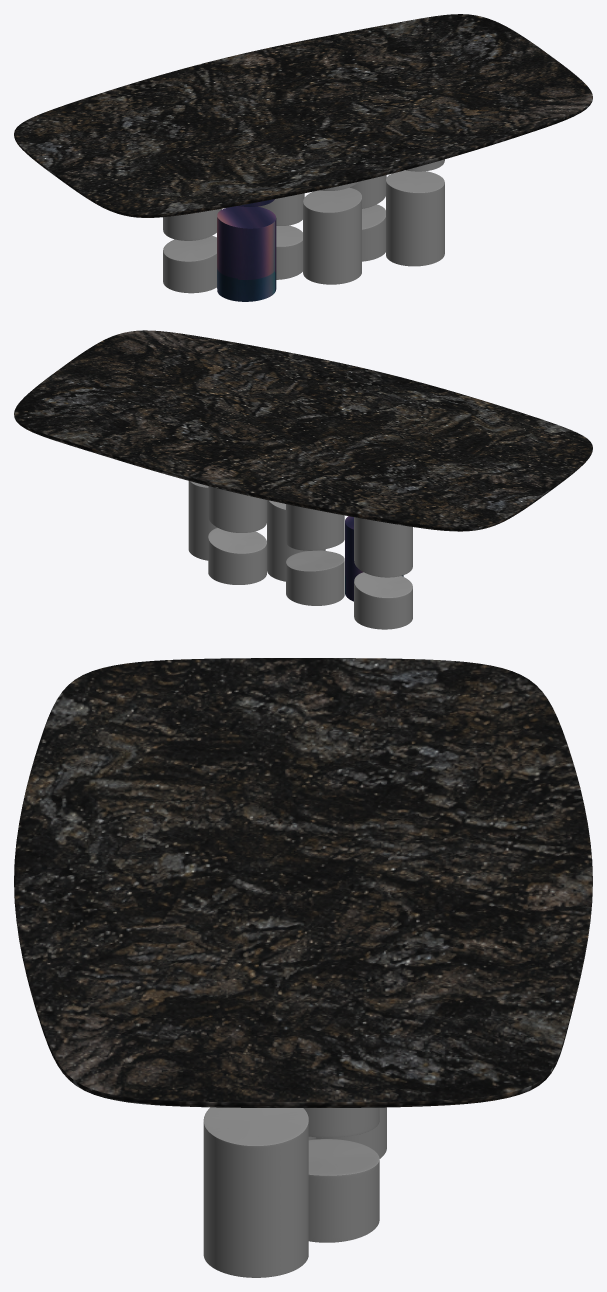
Rendered from SLN_Illusion.glb.
3 renders of one model, top to bottom at view 1: azimuth 30°, elevation 25°; view 2: azimuth 150°, elevation 25°; view 3: azimuth 270°, elevation 25°, orthographic. The views are drawn at different scales.
Parts seen in each view (by area): view 1: SLN_Illusion; view 2: SLN_Illusion; view 3: SLN_Illusion.
Part boxes in pixels (box(x1,y1,x2,y2)): SLN_Illusion: box(14, 14, 592, 301); SLN_Illusion: box(14, 330, 592, 629); SLN_Illusion: box(14, 658, 592, 1277).
Size of the model in its own units: 2.54 by 0.7608 by 1.4.
4 materials, 3 textured.
